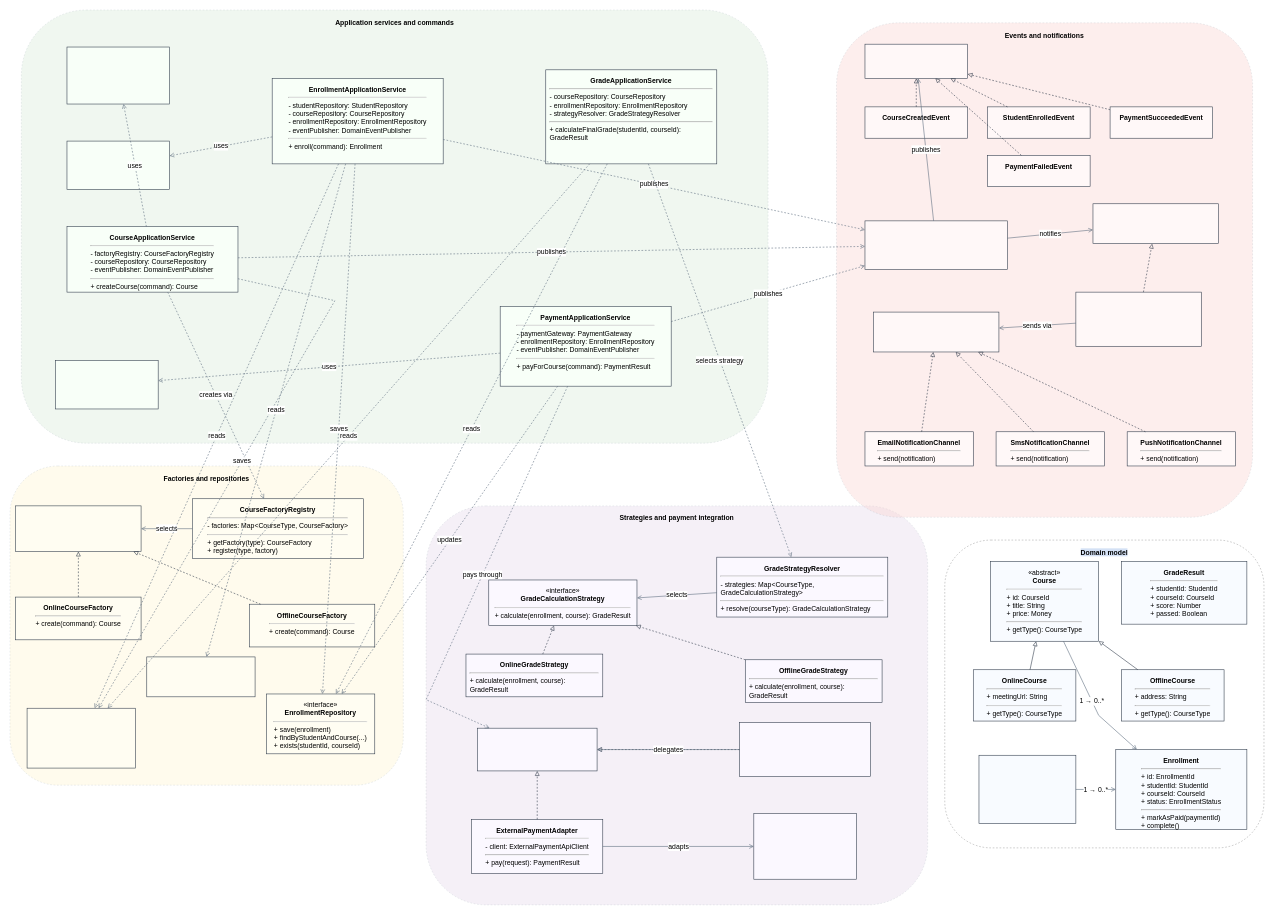
The diagram is 1274 pixels wide and 915 high, and some of its shapes have lost their labels. Here are the shapes that lost their labels. From the top down, the centre of each, then its label:
At (x=118, y=75): "CreateCourseCommand + type: CourseType + title: String + price: Money".
At (x=916, y=61): "«interface» DomainEvent".
At (x=118, y=165): "EnrollStudentCommand + studentId: StudentId + courseId: CourseId".
At (x=1155, y=223): "«interface» DomainEventObserver + handle(event)".
At (x=935, y=244): "DomainEventPublisher + publish(event) + subscribe(eventType, observer)".
At (x=936, y=332): "«interface» NotificationChannel + send(notification)".
At (x=1138, y=319): "NotificationObserver - channels: List<NotificationChannel> + handle(event)".
At (x=106, y=384): "PayCourseCommand + studentId: StudentId + courseId: CourseId".
At (x=78, y=528): "«interface» CourseFactory + create(command): Course".
At (x=200, y=676): "«interface» StudentRepository + findById(studentId)".
At (x=81, y=738): "«interface» CourseRepository + save(course) + findById(courseId)".
At (x=537, y=749): "«interface» PaymentGateway + pay(request): PaymentResult".
At (x=805, y=749): "PaymentGatewayProxy - realGateway: PaymentGateway + pay(request): PaymentResult".
At (x=1027, y=789): "Student + id: StudentId + name: String + email: String".
At (x=804, y=846): "ExternalPaymentApiClient + createPayment(...) + getPaymentStatus(...)".
